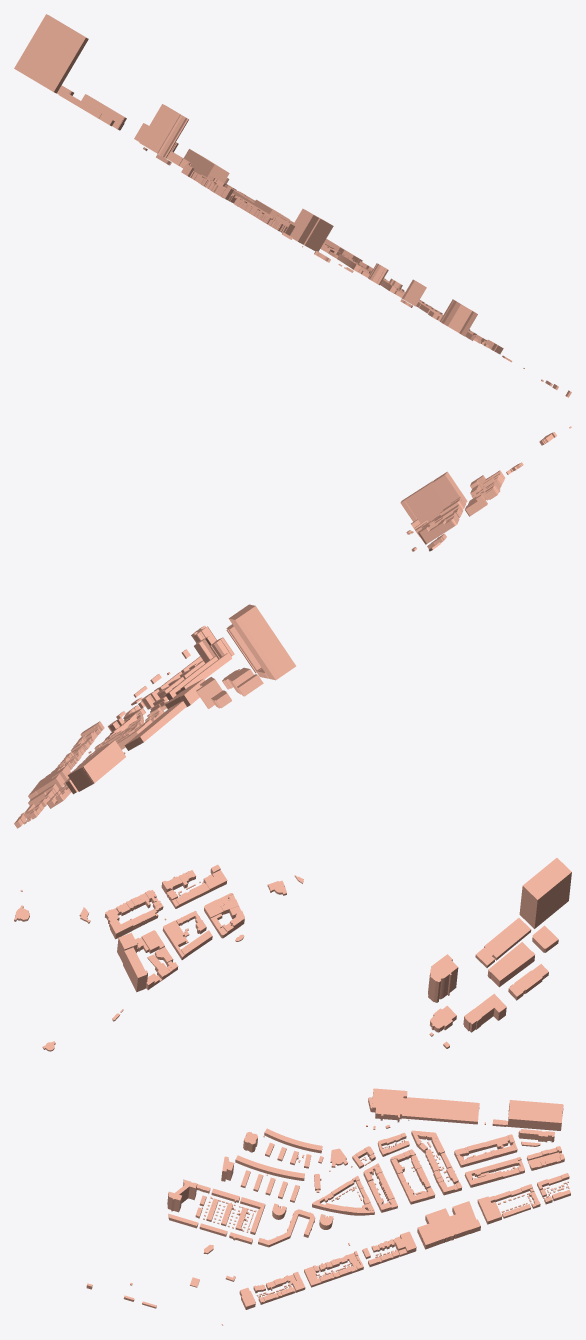
3 renders of one model, top to bottom at view 1: azimuth 30°, elevation 25°; view 2: azimuth 150°, elevation 25°; view 3: azimuth 270°, elevation 25°, orthographic. The views are drawn at different scales.
Size of the model in its own units: 918 by 784 by 1264.
